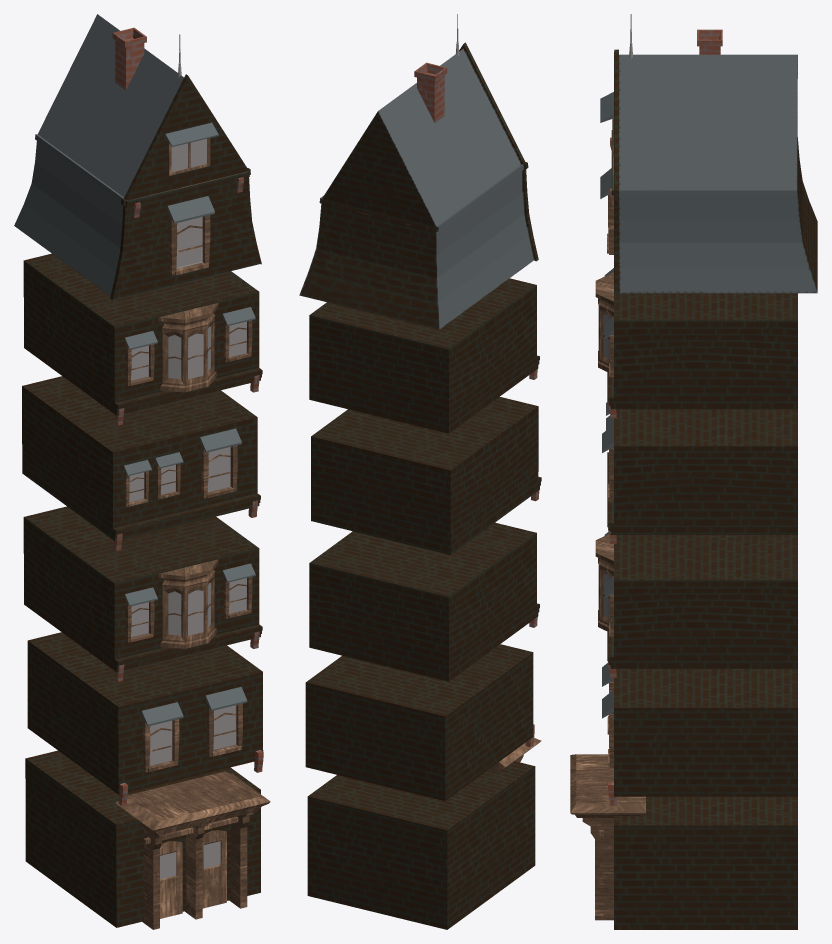
File: House1.fbx
3 views of the same model, side by side, from view 1: azimuth 30°, elevation 25°; view 2: azimuth 150°, elevation 25°; view 3: azimuth 270°, elevation 25° (orthographic). The views are drawn at different scales.
Visible parts, largest first — view 1: Cylinder.005, Cube.031, Cube.053, Cube.058, Cube.056, Cube.060; view 2: Cylinder.005, Cube.031, Cube.053, Cube.058, Cube.056, Cube.060; view 3: Cylinder.005, Cube.031, Cube.053, Cube.056, Cube.058, Cube.060.
Part boxes in pixels (x1,y1,x2,y2): Cylinder.005: (14,14,261,300); Cube.031: (25,750,270,929); Cube.053: (23,506,262,681); Cube.058: (22,376,260,550); Cube.056: (27,632,263,805); Cube.060: (23,253,262,425); Cylinder.005: (299,14,538,329); Cube.031: (307,737,541,929); Cube.053: (309,522,539,681); Cube.058: (311,397,541,554); Cube.056: (305,644,534,800); Cube.060: (309,278,539,433); Cylinder.005: (600,14,817,294); Cube.031: (570,754,797,929); Cube.053: (595,532,797,677); Cube.056: (602,663,797,805); Cube.058: (602,401,797,543); Cube.060: (595,268,797,418).
Size of the model in its own units: 520 by 2880 by 733.
1 material, 1 textured.
